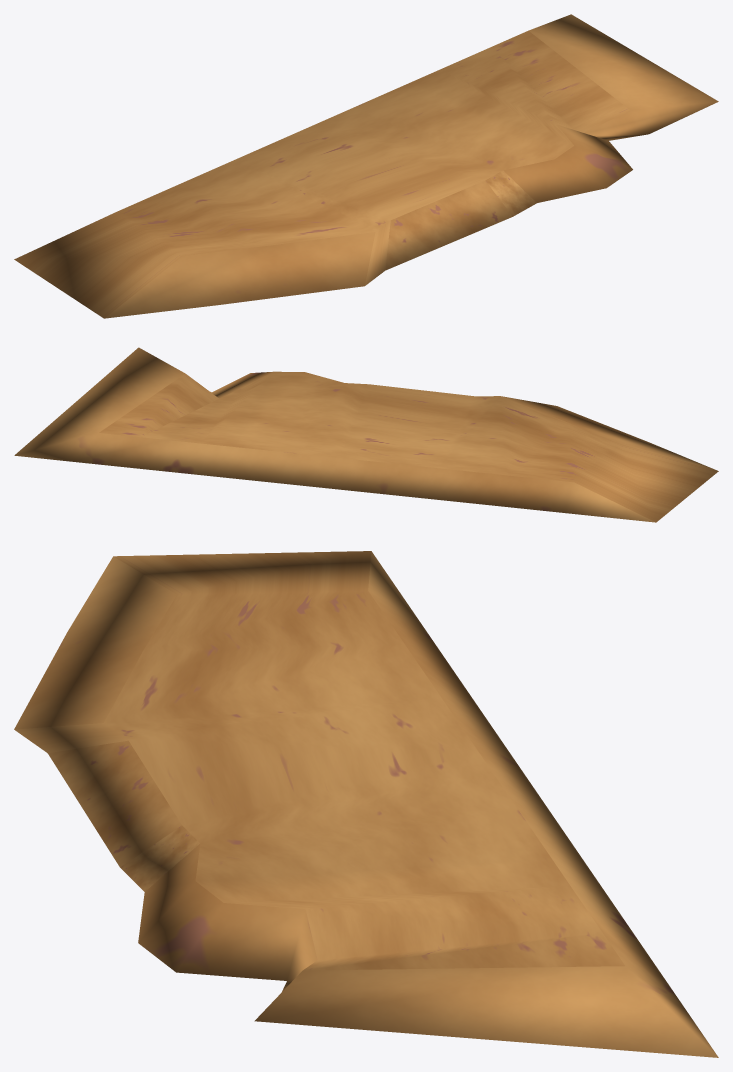
Rendered from NeoRushOutskirtsGround.glb.
The picture shows the model from 3 angles, top to bottom: view 1: azimuth 30°, elevation 25°; view 2: azimuth 150°, elevation 25°; view 3: azimuth 270°, elevation 25°; orthographic projection. The views are drawn at different scales.
Parts seen in each view (by area): view 1: Ground; view 2: Ground; view 3: Ground.
Boxes of the visible parts, x1,y1,x2,y2 form: Ground: (14,14,718,318); Ground: (14,347,718,522); Ground: (14,551,718,1057).
Bounding box in the file's own units: 1181 × 39.69 × 694.
Materials: 1 (1 with a texture image).
